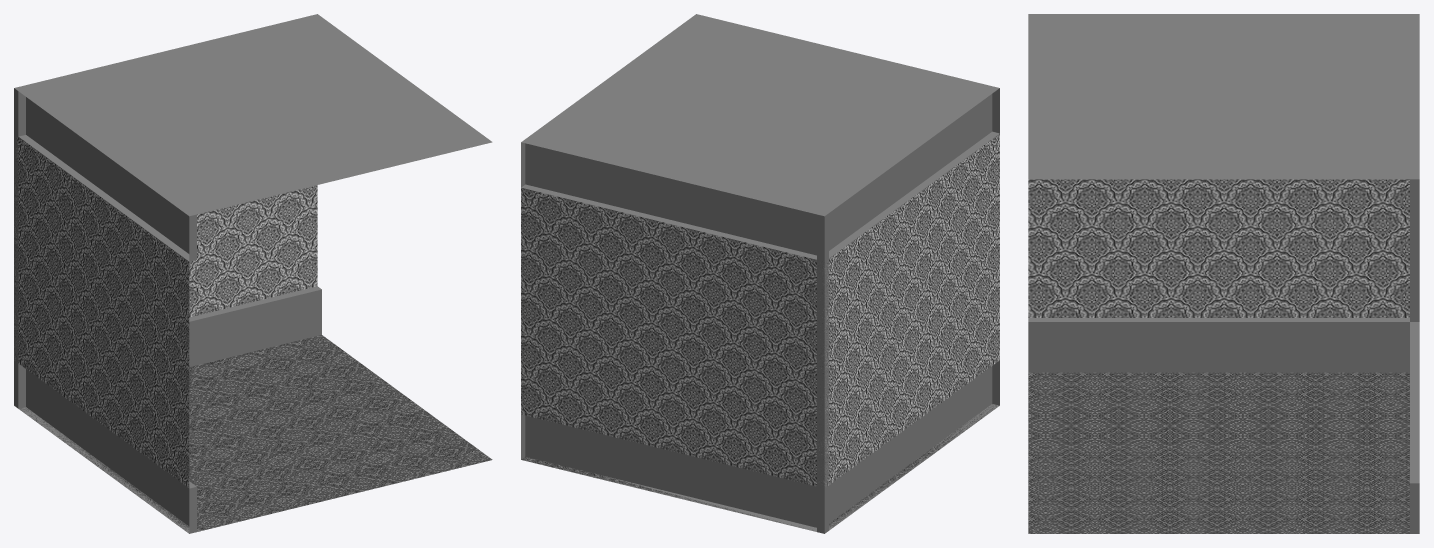
File: Room_Corner.fbx
3 views of the same model, side by side, from view 1: azimuth 30°, elevation 25°; view 2: azimuth 150°, elevation 25°; view 3: azimuth 270°, elevation 25° (orthographic). The views are drawn at different scales.
Parts seen in each view (by area): view 1: Room_Corner; view 2: Room_Corner; view 3: Room_Corner.
Part boxes in pixels (x1,y1,x2,y2): Room_Corner: (14, 14, 492, 533); Room_Corner: (521, 14, 999, 533); Room_Corner: (1028, 14, 1419, 533).
Size of the model in its own units: 6 by 6 by 6.
Materials: 3 (2 with a texture image).
